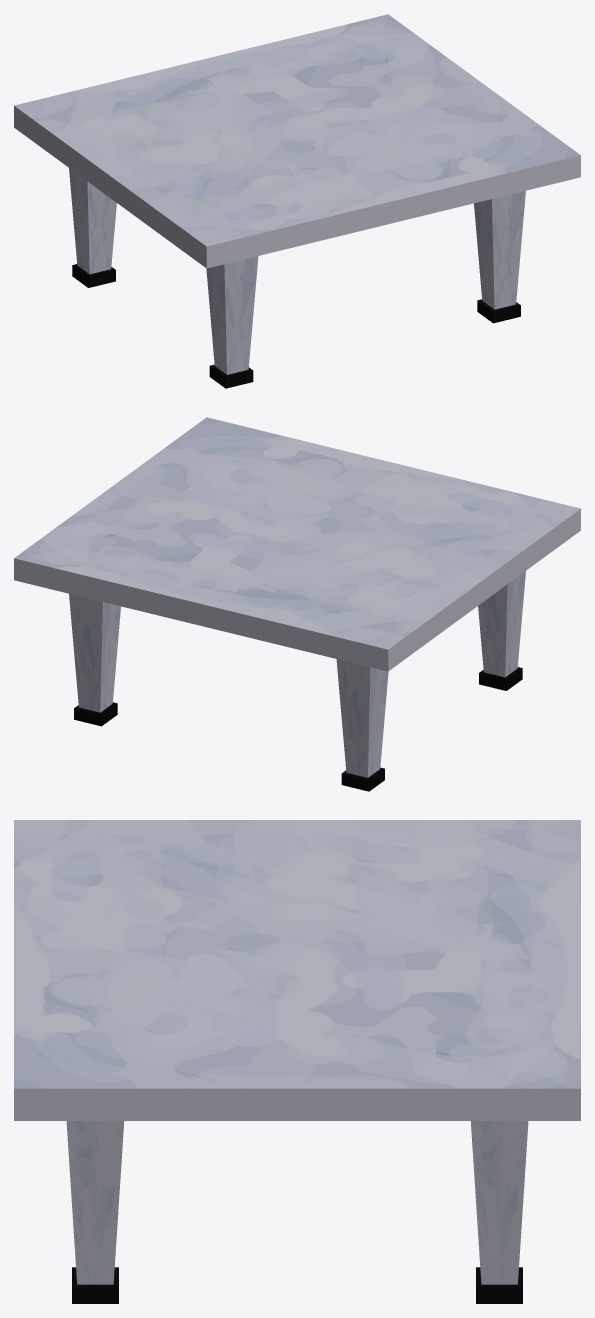
The model's file is MesaBlanca.fbx.
The picture shows the model from 3 angles, top to bottom: view 1: azimuth 30°, elevation 25°; view 2: azimuth 150°, elevation 25°; view 3: azimuth 270°, elevation 25°; orthographic projection. The views are drawn at different scales.
Parts seen in each view (by area): view 1: Cube.025; view 2: Cube.025; view 3: Cube.025.
Part boxes in pixels (bbox=[...]): Cube.025: bbox=[14, 14, 580, 388]; Cube.025: bbox=[14, 417, 580, 791]; Cube.025: bbox=[14, 820, 580, 1303].
Bounding box in the file's own units: 1564 × 663 × 1395.
2 materials, 1 textured.
